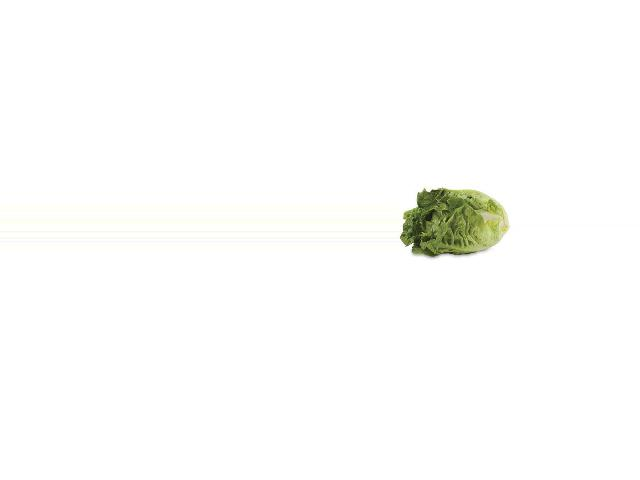lettuce: (403, 181, 509, 261)
